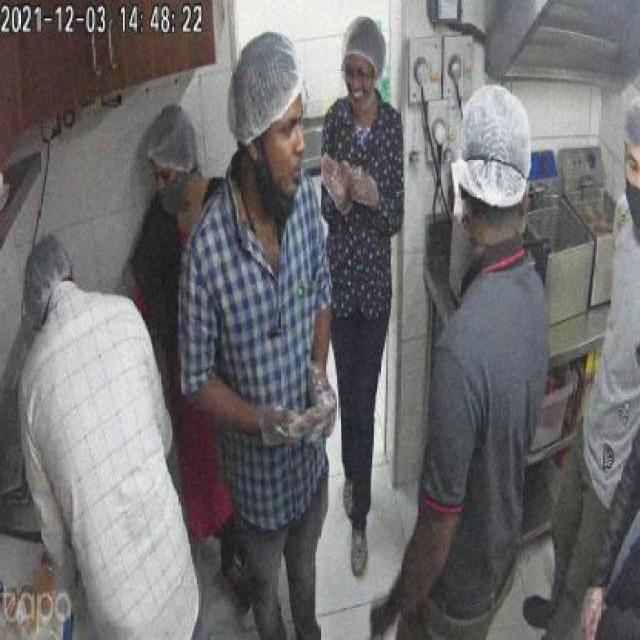hairnet: (460, 88, 530, 200), (227, 36, 307, 116), (23, 235, 71, 311), (150, 105, 198, 175), (344, 16, 387, 74), (619, 96, 640, 147)
